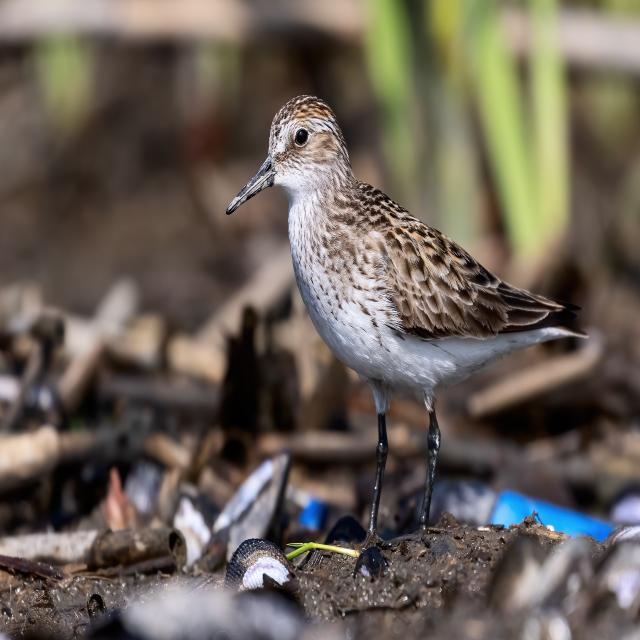Sandpiper: (224, 86, 564, 540)
